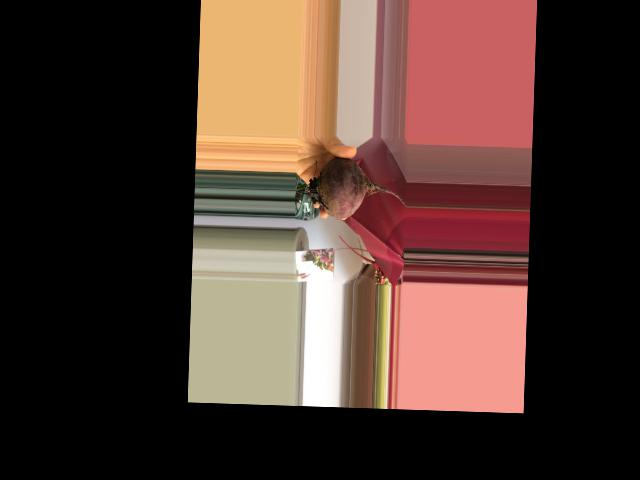beet: (294, 156, 407, 221)
